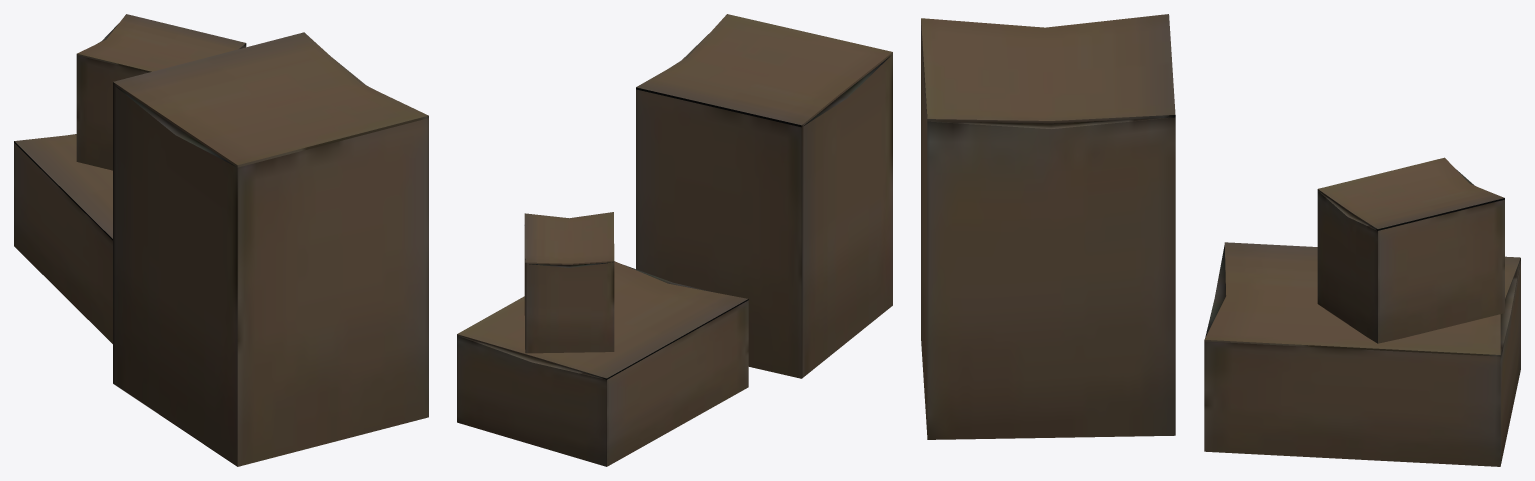
3 views of the same model, side by side, from view 1: azimuth 30°, elevation 25°; view 2: azimuth 150°, elevation 25°; view 3: azimuth 270°, elevation 25° (orthographic). The views are drawn at different scales.
Parts seen in each view (by area): view 1: body0_model0_lod0_mesh0; view 2: body0_model0_lod0_mesh0; view 3: body0_model0_lod0_mesh0.
Boxes of the visible parts, box(x1,y1,x2,y2) form: body0_model0_lod0_mesh0: box(14, 14, 428, 466); body0_model0_lod0_mesh0: box(457, 14, 892, 466); body0_model0_lod0_mesh0: box(921, 14, 1520, 466).
Size of the model in its own units: 25.15 by 28.51 by 48.29.
1 material, 1 textured.
